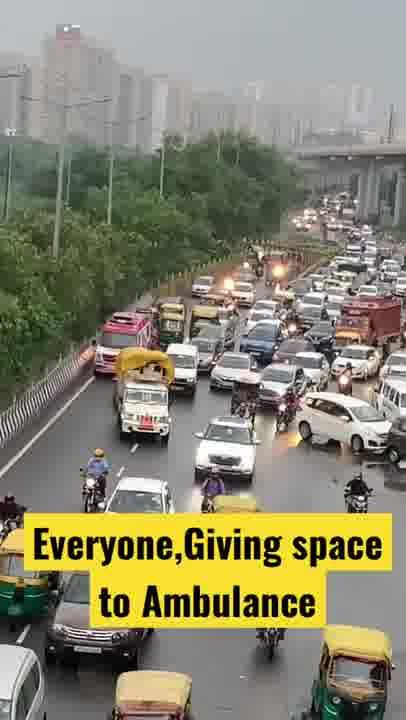AMBULANCE: (91, 310, 154, 347)
